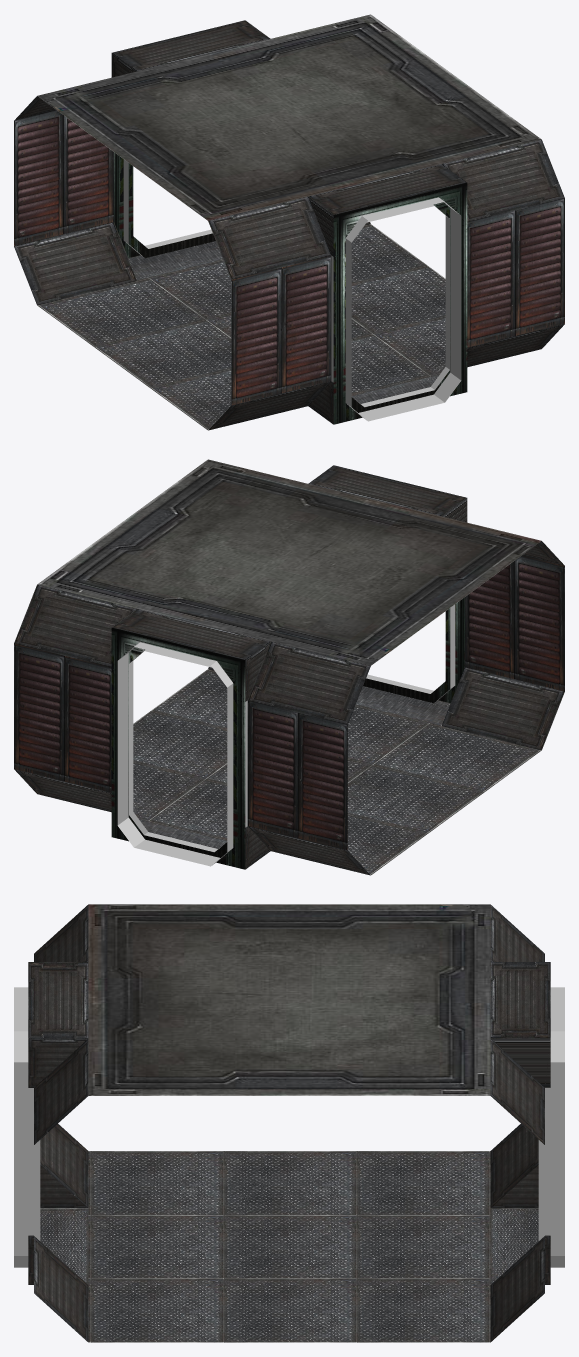
The model's file is HallwayTwoDoor.fbx.
3 renders of one model, top to bottom at view 1: azimuth 30°, elevation 25°; view 2: azimuth 150°, elevation 25°; view 3: azimuth 270°, elevation 25°, orthographic. The views are drawn at different scales.
Visible parts, largest first — view 1: pCube57; view 2: pCube57; view 3: pCube57.
Part boxes in pixels (x1,y1,x2,y2): pCube57: (14, 14, 564, 430); pCube57: (14, 459, 564, 875); pCube57: (14, 904, 564, 1342).
Size of the model in its own units: 10 by 6 by 12.15.
